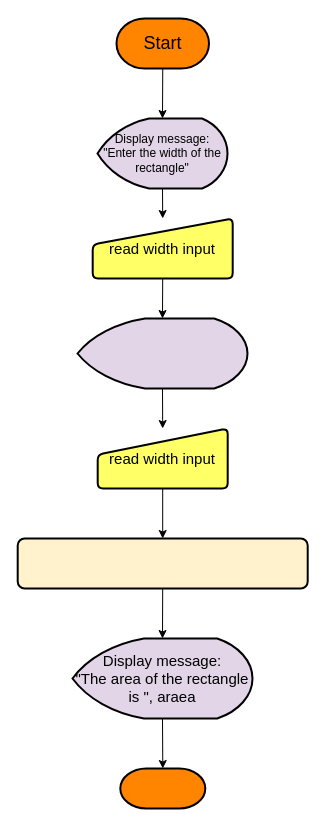
Some shapes in this 326 by 826 pixel diagram are drawn without their labels. The centre of each missing label's shape, as x and y in pixels:
Calculate area: area = width * height: (x=162, y=563)
Display message: "Enter the height of the rectangle": (x=162, y=353)
End: (x=162, y=788)
